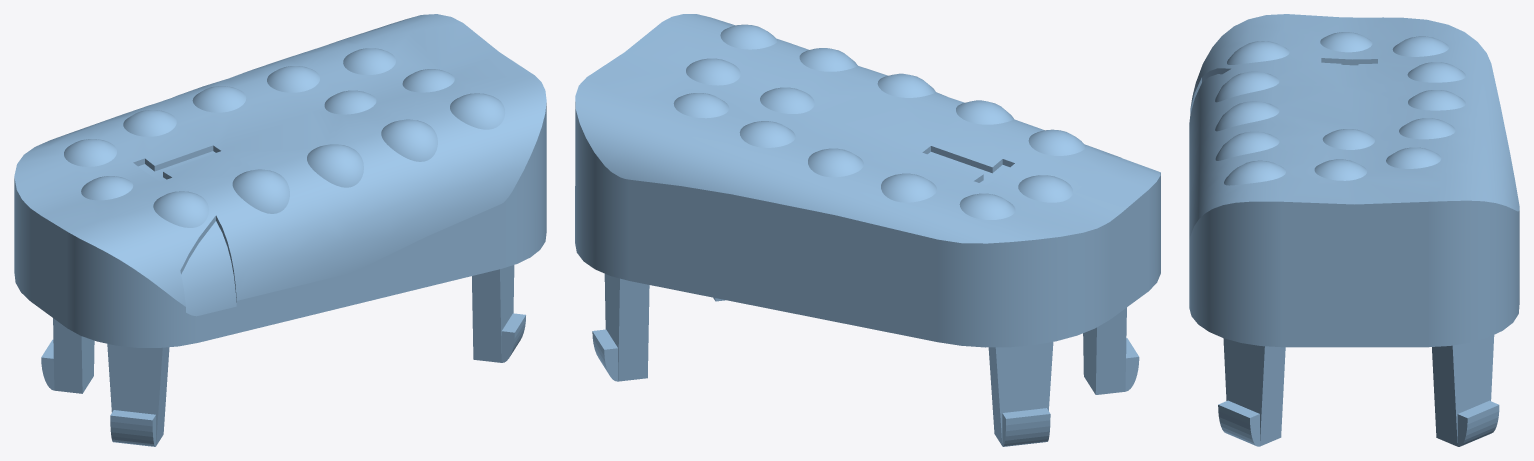
3 views of the same model, side by side, from view 1: azimuth 30°, elevation 25°; view 2: azimuth 150°, elevation 25°; view 3: azimuth 270°, elevation 25° (orthographic). The views are drawn at different scales.
Parts seen in each view (by area): view 1: =>[0:1:1:3], =>[0:1:1:4], =>[0:1:1:5], =>[0:1:1:6]; view 2: =>[0:1:1:3], =>[0:1:1:6], =>[0:1:1:4]; view 3: =>[0:1:1:3], =>[0:1:1:5].
Part boxes in pixels (x1,y1,x2,y2): =>[0:1:1:3]: [14, 14, 546, 347]; =>[0:1:1:4]: [107, 344, 169, 446]; =>[0:1:1:5]: [472, 265, 525, 362]; =>[0:1:1:6]: [41, 318, 94, 393]; =>[0:1:1:3]: [575, 14, 1160, 381]; =>[0:1:1:6]: [988, 342, 1053, 446]; =>[0:1:1:4]: [1083, 307, 1139, 394]; =>[0:1:1:3]: [1189, 14, 1519, 446]; =>[0:1:1:5]: [1218, 338, 1285, 446].
Size of the model in its own units: 38.92 by 20.53 by 23.28.
